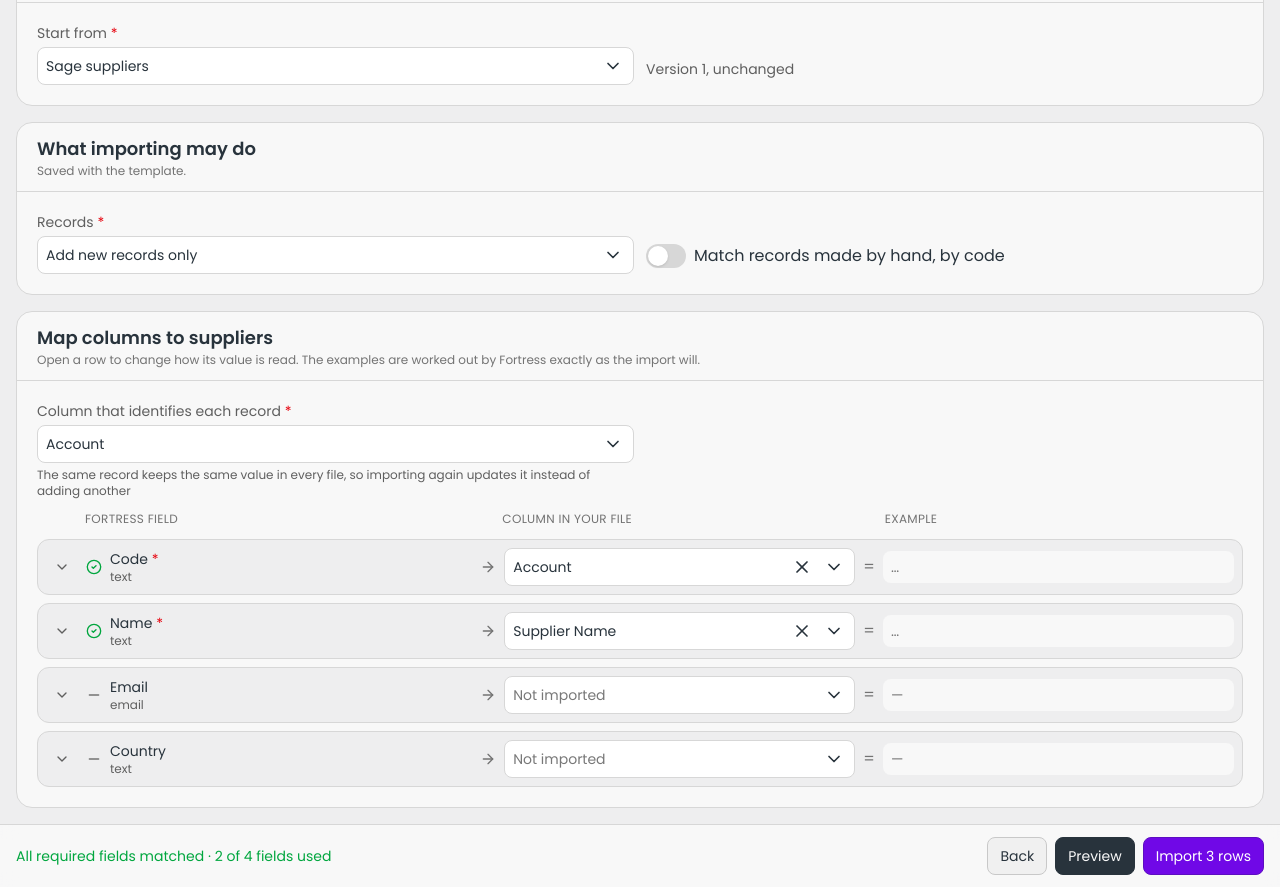
Test: file import wizard › step 4: a change is saved as the template's next version with a reason, or as a new template; the server's problems are listed
The image size is (1280, 887).
Later steps or results of the test are not shown.
(page scrolled)
Expected: the text "Version 1, unchanged" is shown, [646,59,794,79]
Click the dropdown named "Column for Email".
click(662, 695)  # box [513,684,810,706]
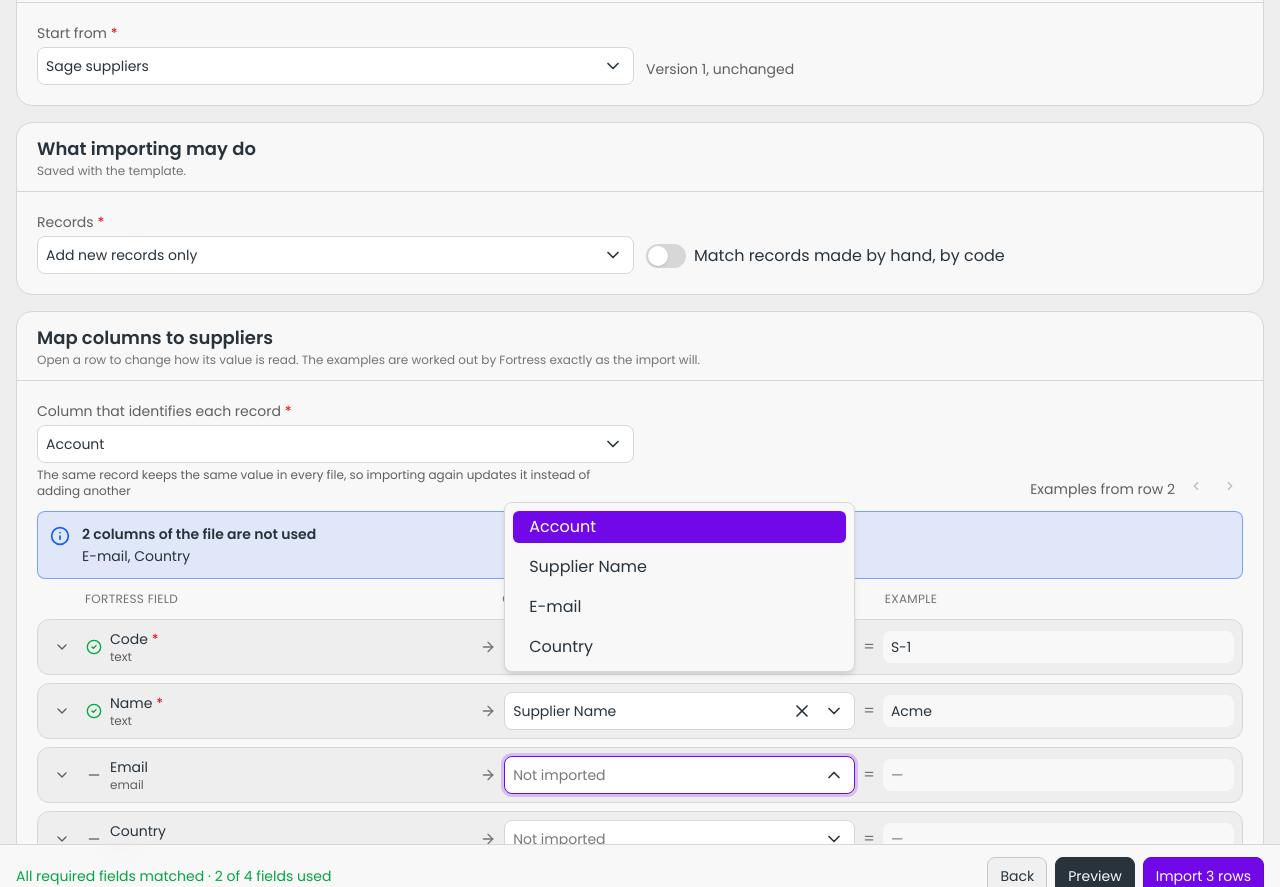
Click the option "E-mail".
click(555, 606)  # box [529,595,581,618]
(page scrolled)
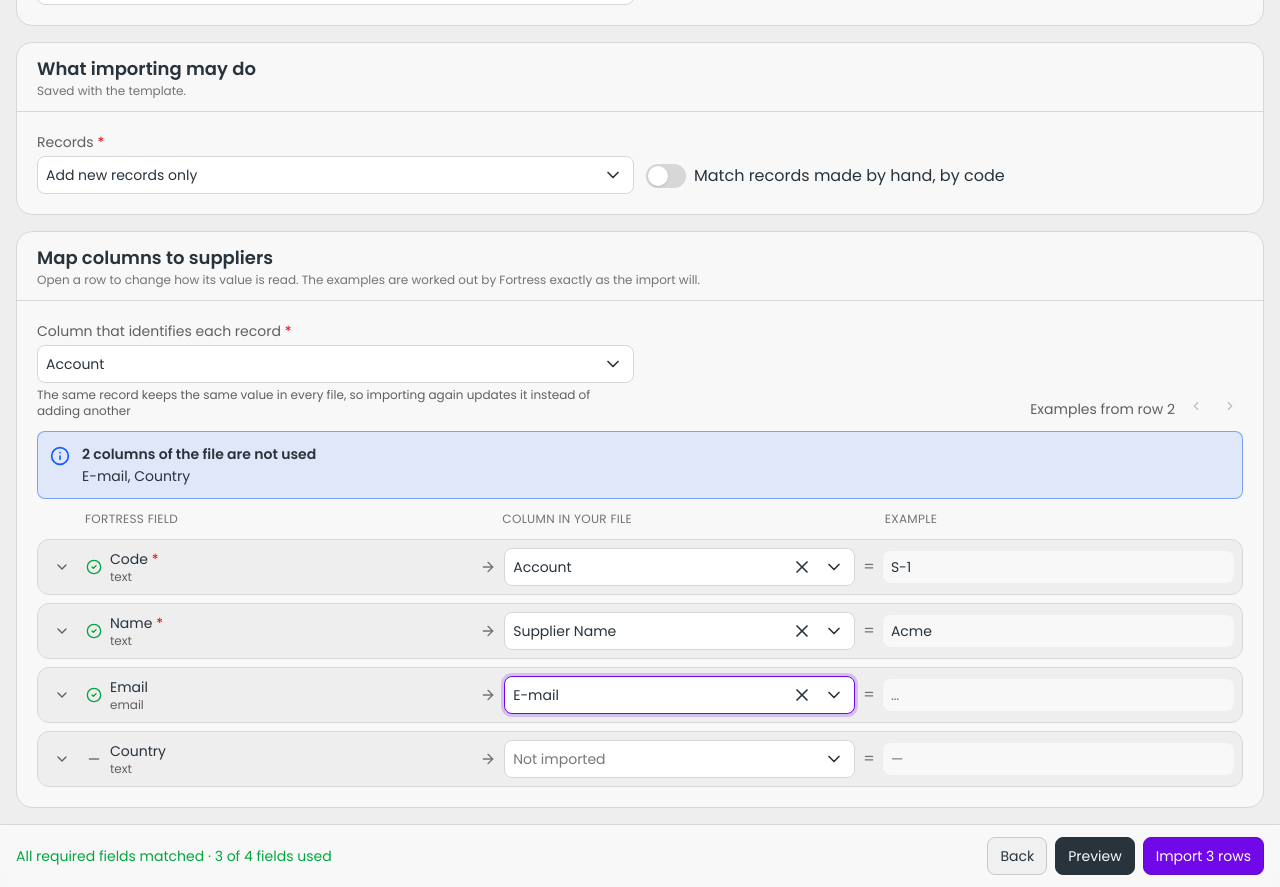
Click the button "Preview".
click(1095, 856)  # box [1055,837,1135,875]
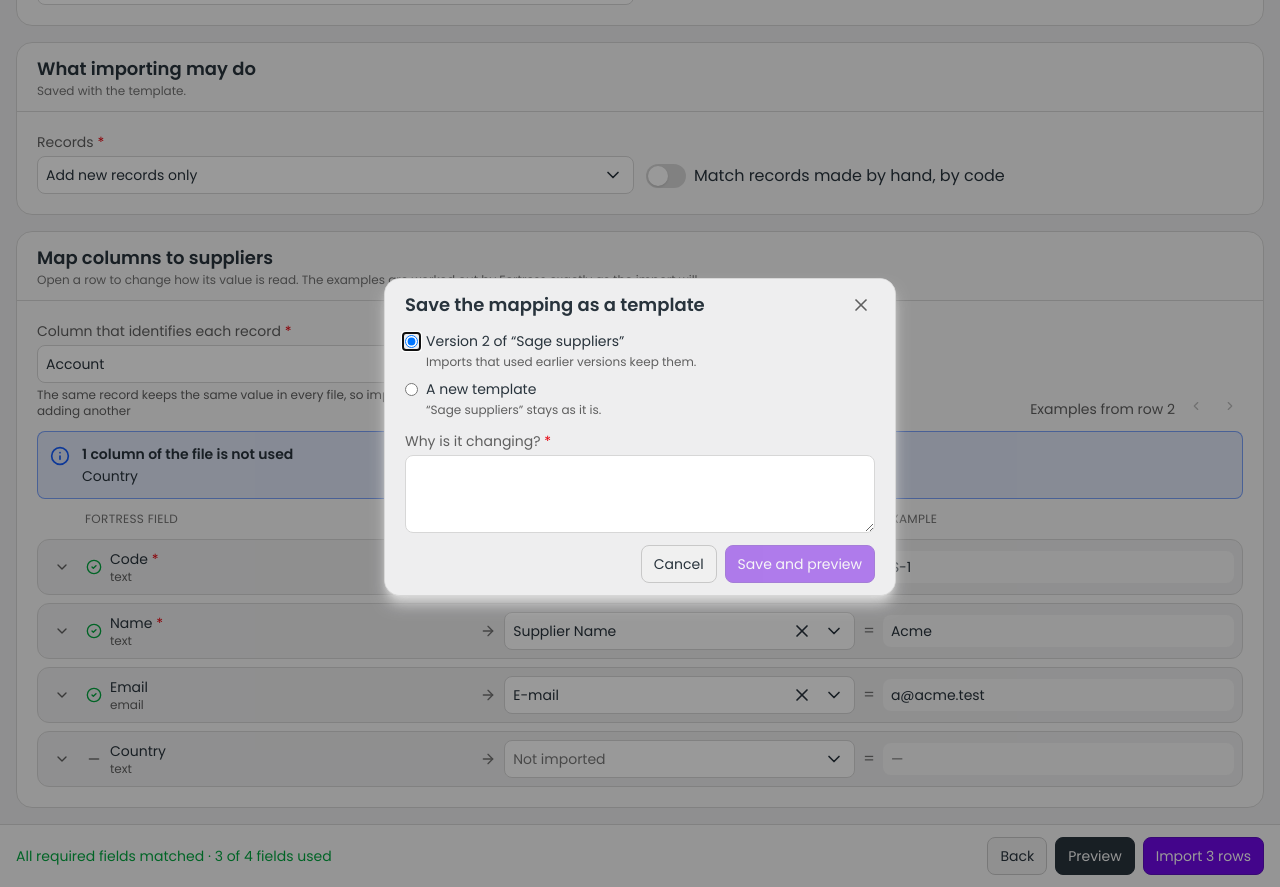
Now the radio button labelled "Version 2 of “Sage suppliers”" is checked, box [405,335,418,348]
Type "Email column added" into the text box labelled "Why is it changing?".
click(640, 494); type("Email column added")  # box [405,455,875,533]
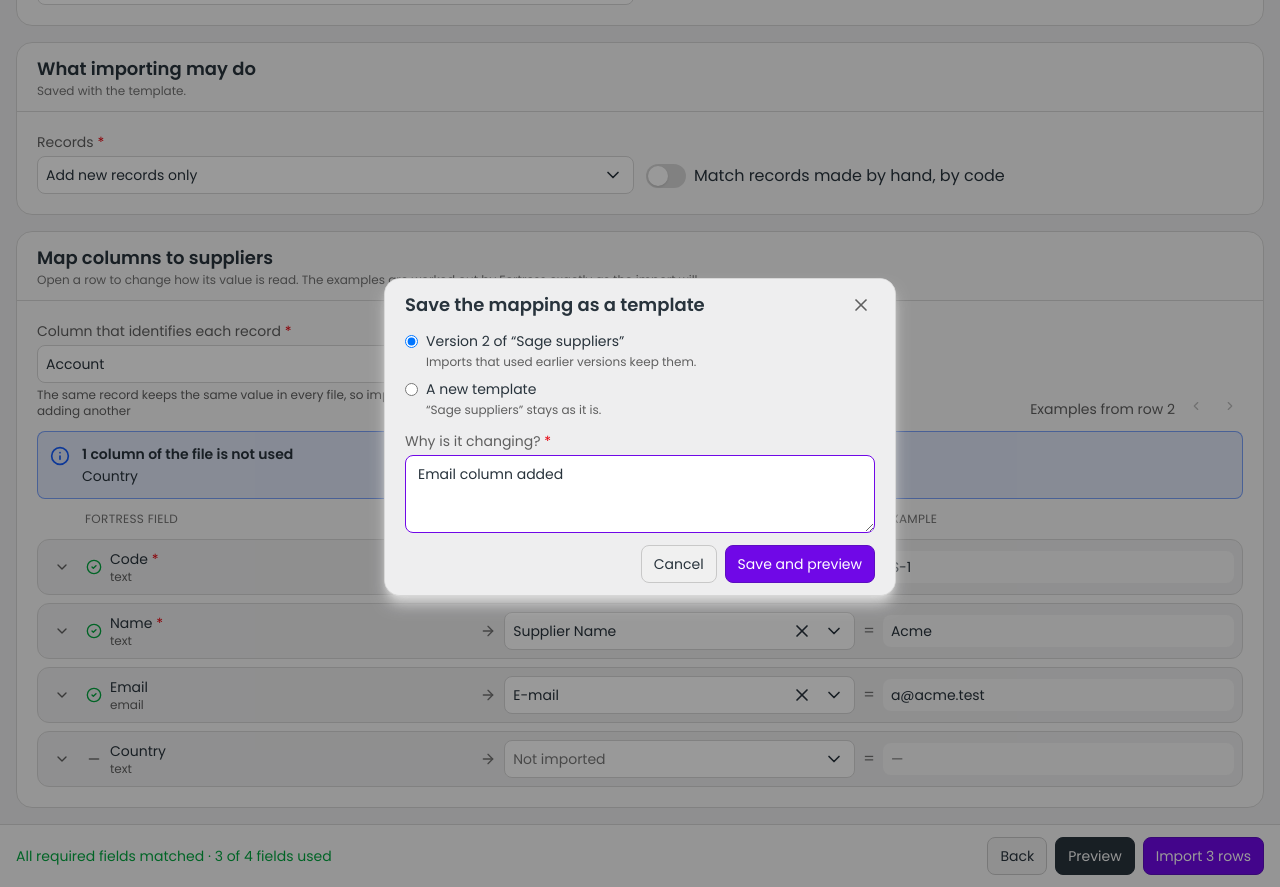
Click the button "Save and preview".
click(800, 564)  # box [725,545,875,583]
(page scrolled)
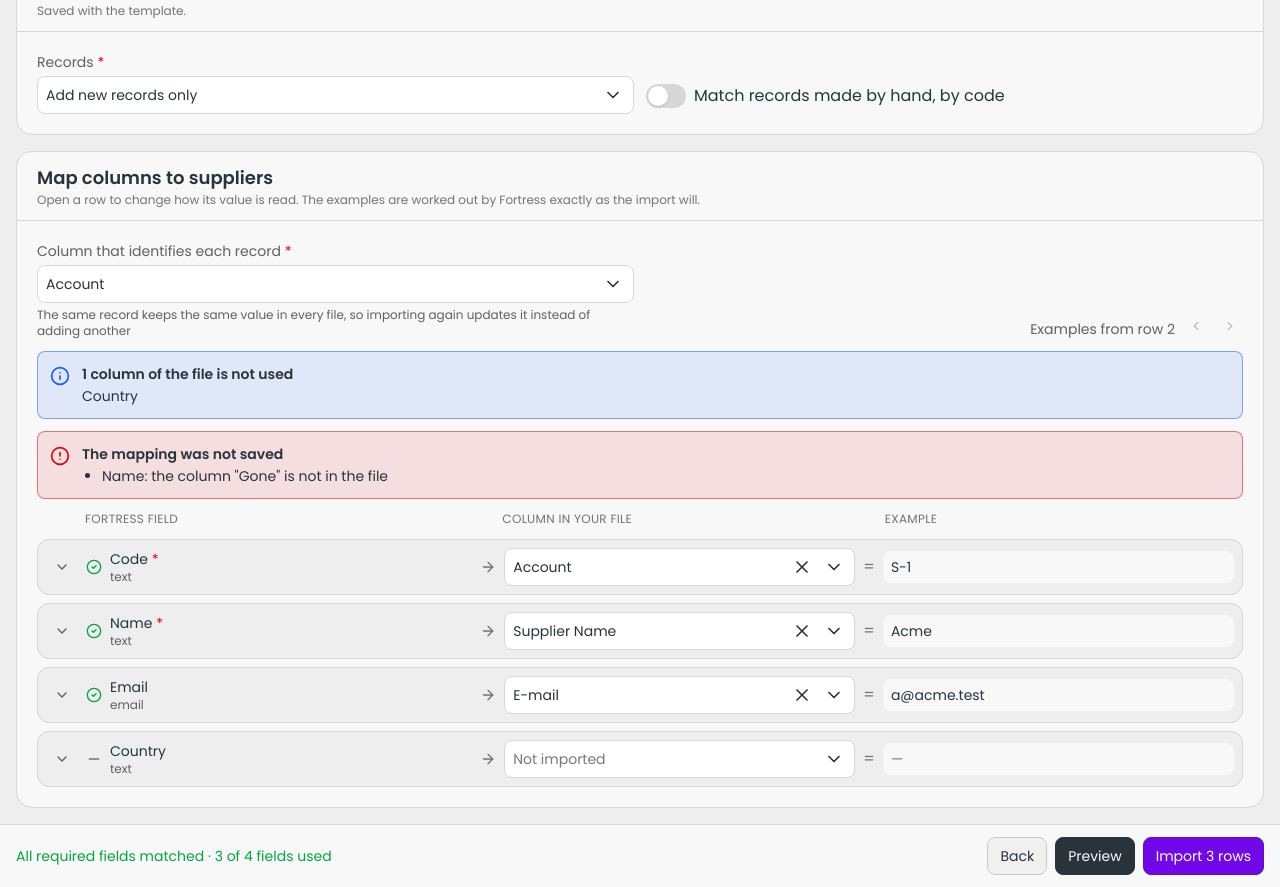
Now the list item "Name: the column \"Gone\" is not in the file" is shown, box [102,466,388,486]
